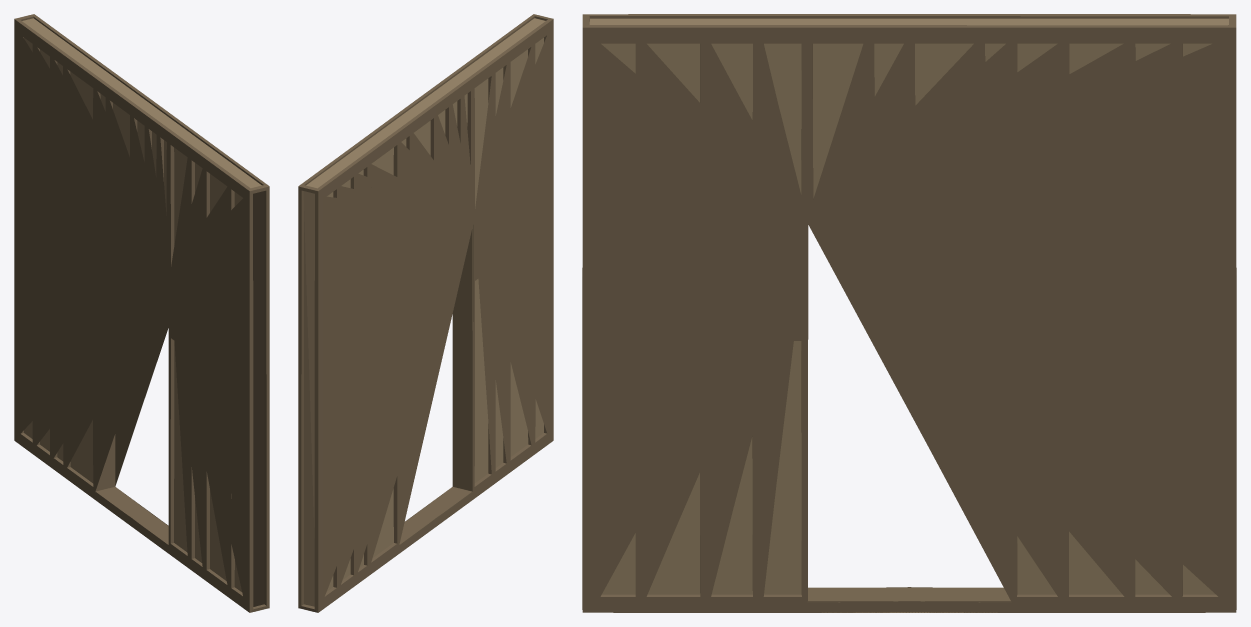
File: Door.fbx
3 renders of one model, left to right at view 1: azimuth 30°, elevation 25°; view 2: azimuth 150°, elevation 25°; view 3: azimuth 270°, elevation 25°, orthographic. The views are drawn at different scales.
Parts seen in each view (by area): view 1: Details, Wall; view 2: Details, Wall; view 3: Details, Wall.
Boxes of the visible parts, bbox=[...] form: Details: bbox=[14, 14, 269, 612]; Wall: bbox=[22, 18, 261, 591]; Details: bbox=[298, 14, 553, 612]; Wall: bbox=[304, 18, 545, 606]; Details: bbox=[582, 14, 1236, 612]; Wall: bbox=[589, 18, 1228, 594].
Size of the model in its own units: 0.603 by 12.11 by 12.26.
